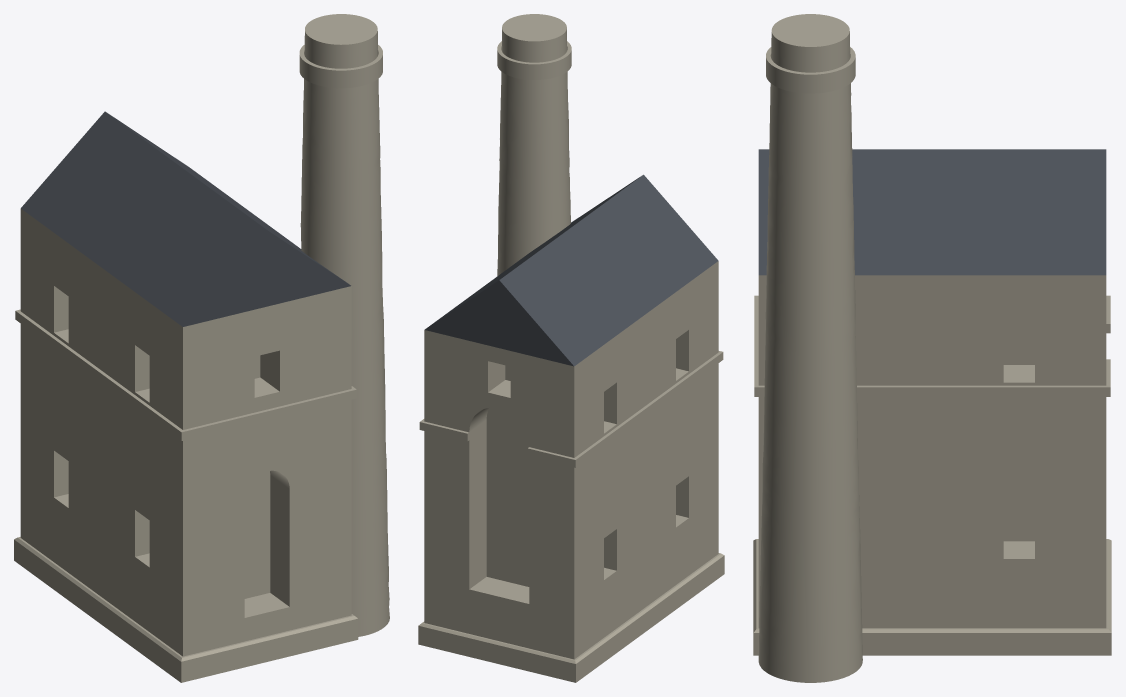
3 renders of one model, left to right at view 1: azimuth 30°, elevation 25°; view 2: azimuth 150°, elevation 25°; view 3: azimuth 270°, elevation 25°, orthographic. The views are drawn at different scales.
Visible parts, largest first — view 1: body_stone, roof_slate, trim_stone; view 2: body_stone, roof_slate, trim_stone; view 3: body_stone, roof_slate, trim_stone.
Boxes of the visible parts, x1,y1,x2,y2 form: body_stone: (20, 14, 389, 656); roof_slate: (21, 111, 350, 326); trim_stone: (14, 45, 382, 682); body_stone: (424, 14, 718, 659); roof_slate: (424, 174, 718, 366); trim_stone: (418, 41, 724, 682); body_stone: (758, 14, 1106, 682); roof_slate: (758, 149, 1106, 275); trim_stone: (753, 47, 1111, 655).
Size of what is drawn, in the model's own units: 8.15 by 20 by 10.3.
